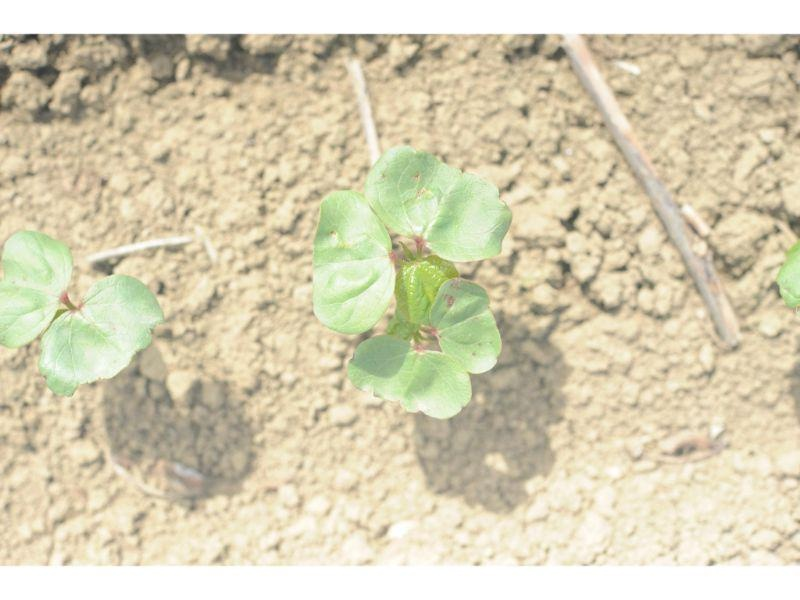cotton: (311, 148, 513, 419), (0, 229, 161, 395)
